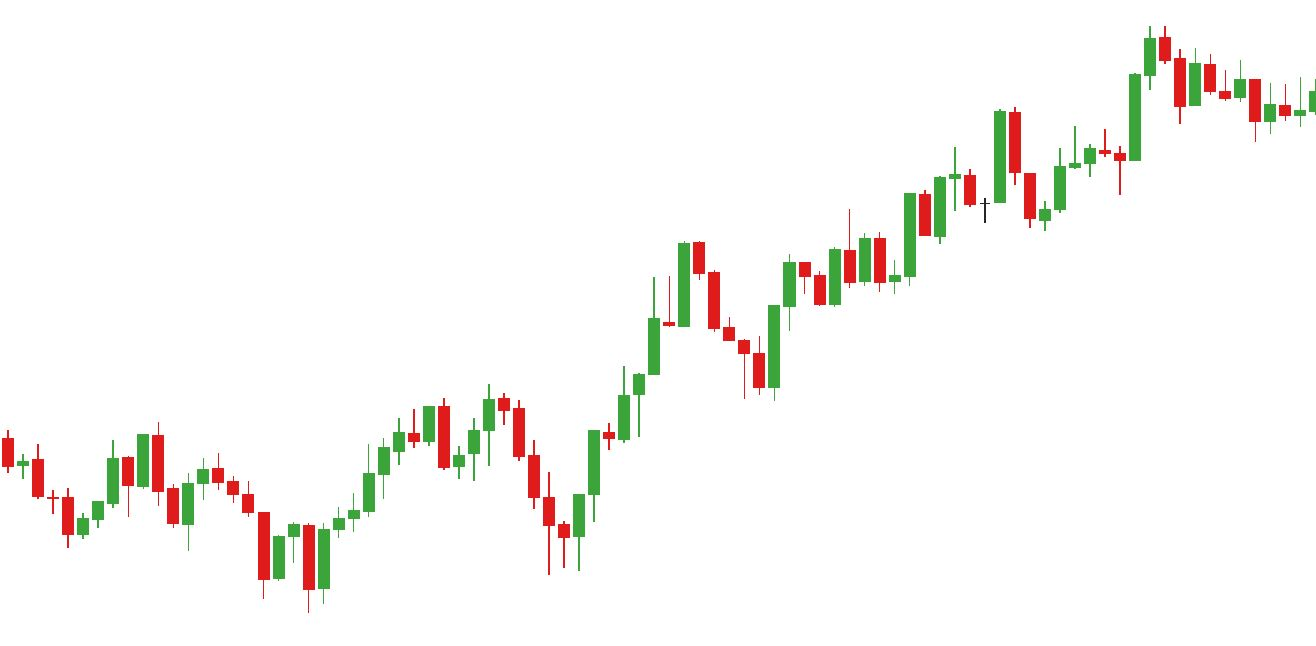buy: (58, 471, 287, 607)
